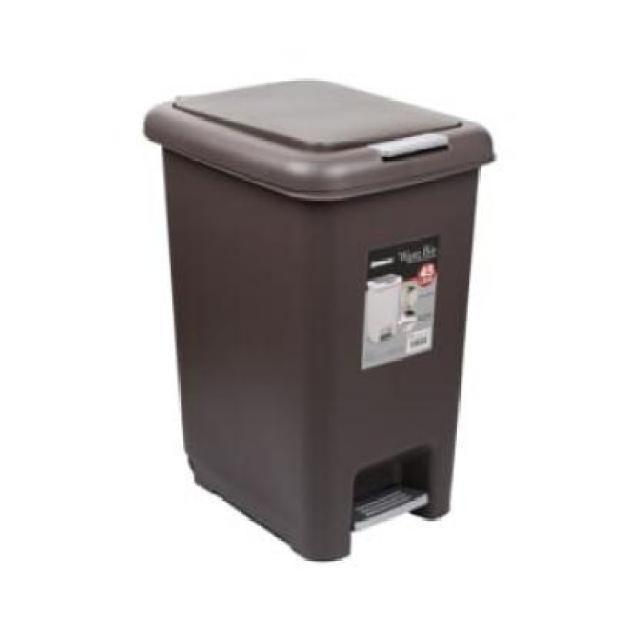garbage container: (125, 67, 507, 570)
